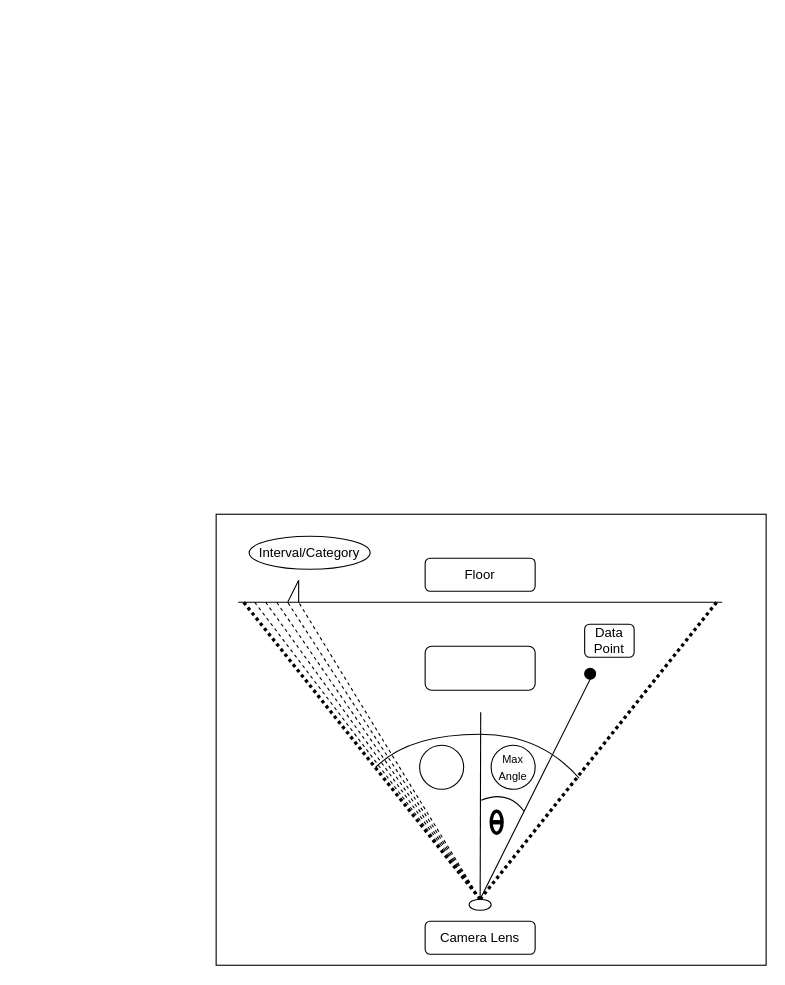
The diagram is 785 pixels wide and 985 high, and some of its shapes have lost their labels. Here are the shapes that lost their labels. From the top down, the centre of each, then its label:
At point 479,667: "Point Cloud Area".
At point 441,766: "Min Angle".
